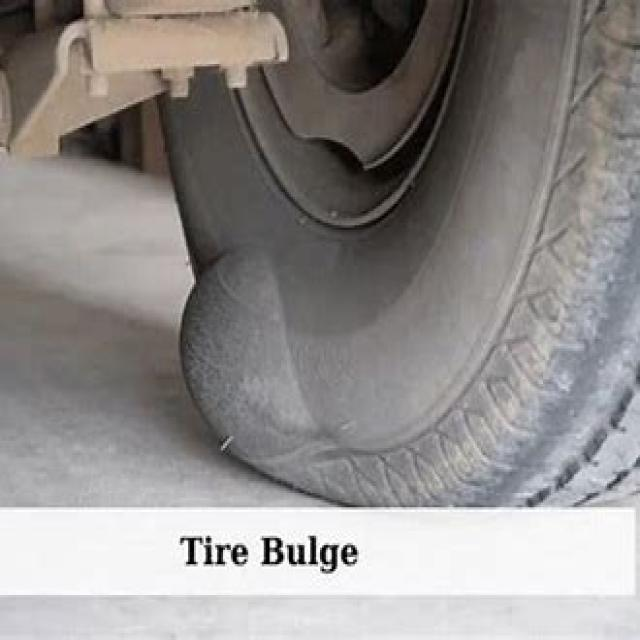Bulge: (174, 232, 334, 486)
